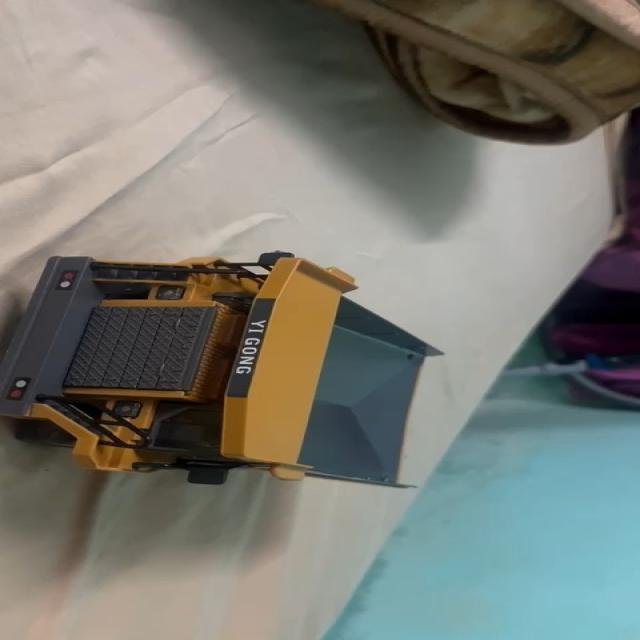dump_truck: (6, 242, 430, 512)
